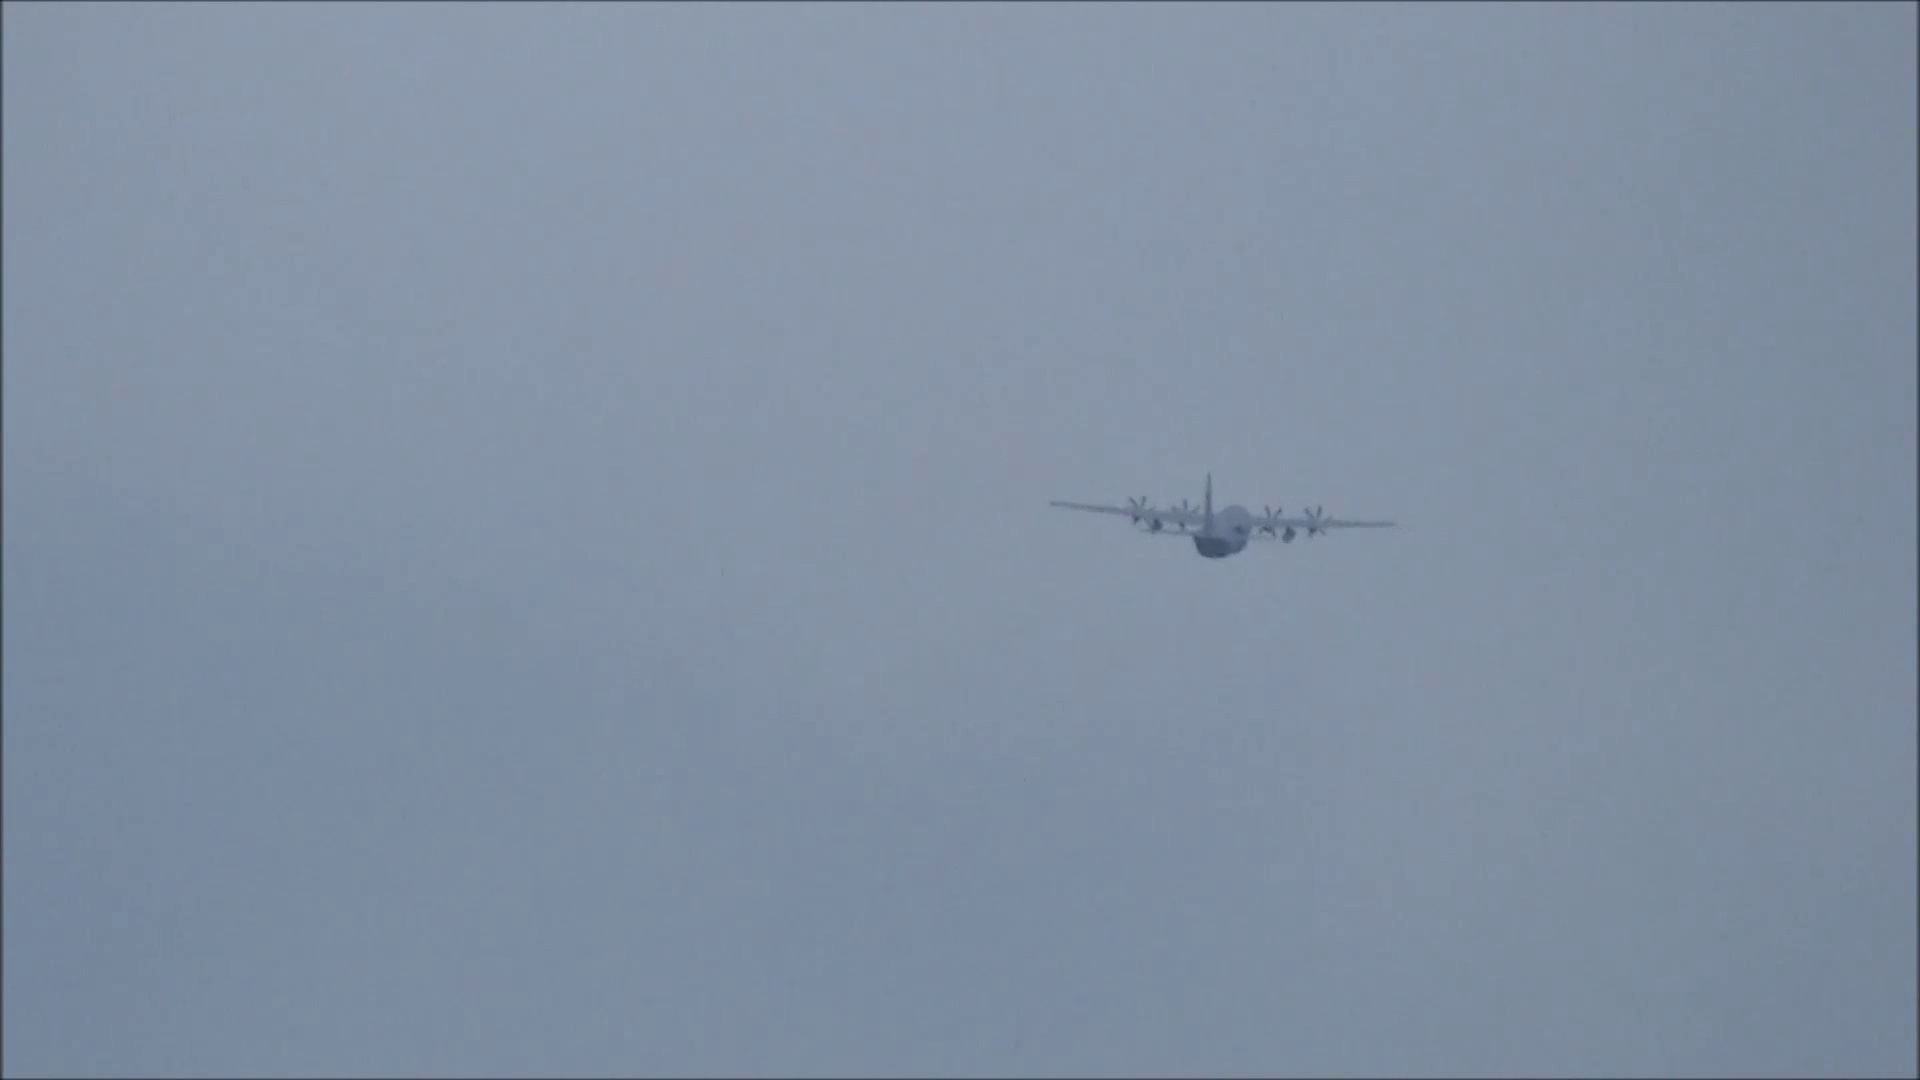Airplane: (1051, 463, 1404, 560)
